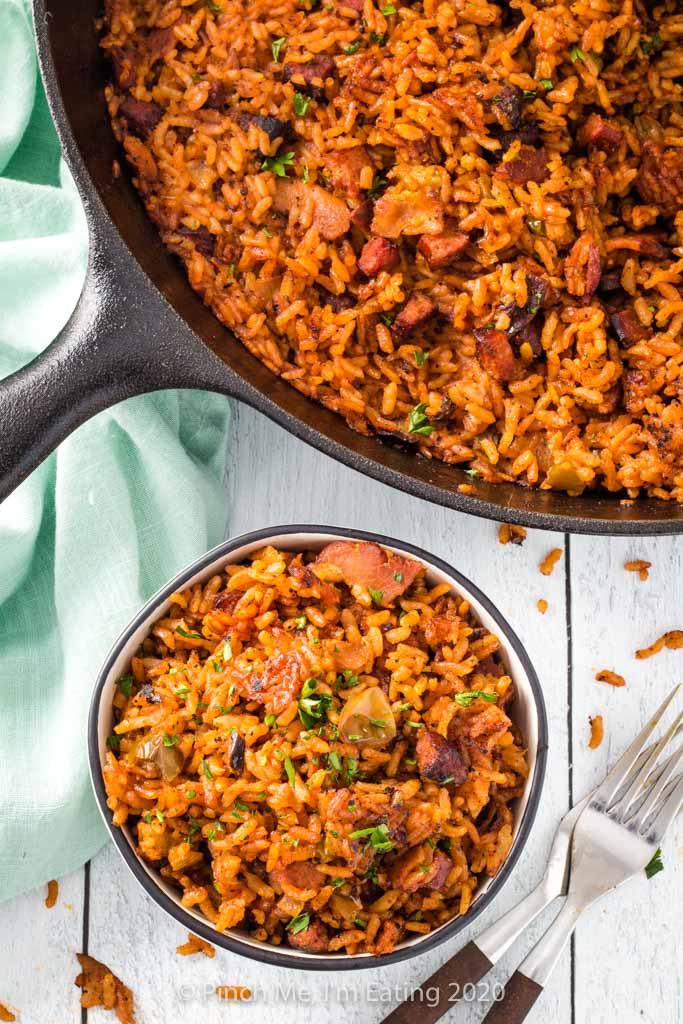Nasi Merah: (54, 1, 683, 491), (132, 537, 543, 958)
